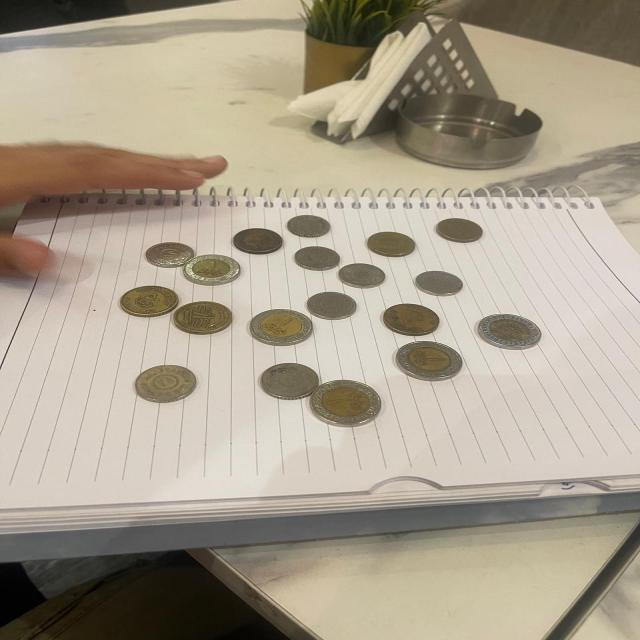Half Pound: (173, 300, 233, 336), (382, 303, 441, 336), (119, 285, 179, 317), (182, 254, 242, 286), (366, 231, 417, 258), (233, 228, 284, 255)
One Pound: (309, 379, 385, 428), (395, 341, 464, 381), (249, 310, 315, 346), (476, 314, 542, 350)
quarter pound: (134, 364, 196, 405), (256, 363, 320, 399), (307, 292, 358, 321), (144, 242, 197, 268), (435, 218, 484, 244), (338, 263, 386, 289), (293, 246, 341, 272), (415, 270, 463, 296), (287, 214, 333, 238)
